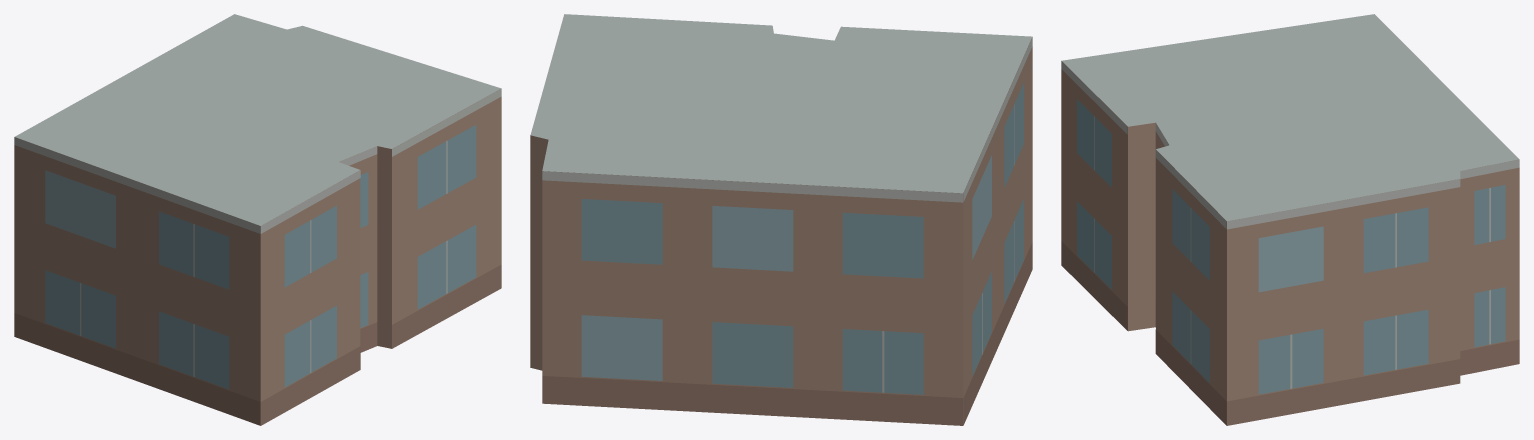
The model's file is survey-upis-32919748.glb.
3 renders of one model, left to right at view 1: azimuth 30°, elevation 25°; view 2: azimuth 150°, elevation 25°; view 3: azimuth 270°, elevation 25°, orthographic. The views are drawn at different scales.
Visible parts, largest first — view 1: survey-upis-32919748.tmp; view 2: survey-upis-32919748.tmp; view 3: survey-upis-32919748.tmp.
Part boxes in pixels (x1,y1,x2,y2): survey-upis-32919748.tmp: (14,14,501,425); survey-upis-32919748.tmp: (530,14,1032,425); survey-upis-32919748.tmp: (1061,14,1519,425).
Size of the model in its own units: 13.27 by 6.1 by 12.39.
